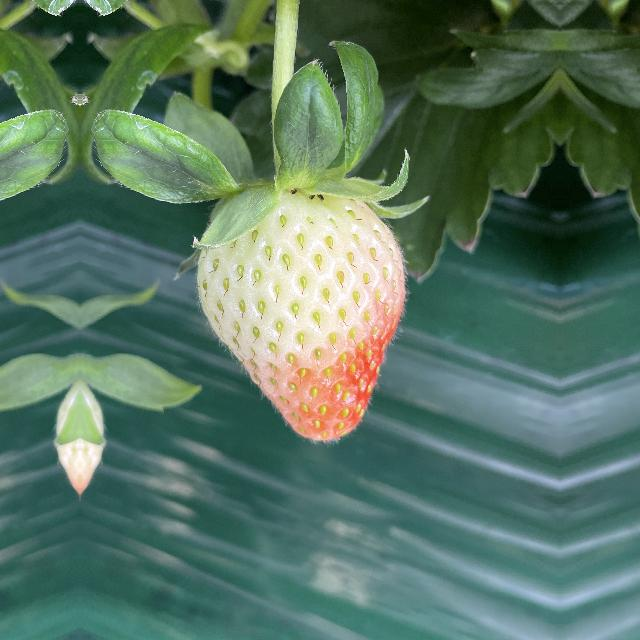Health_50: (194, 179, 414, 453)
